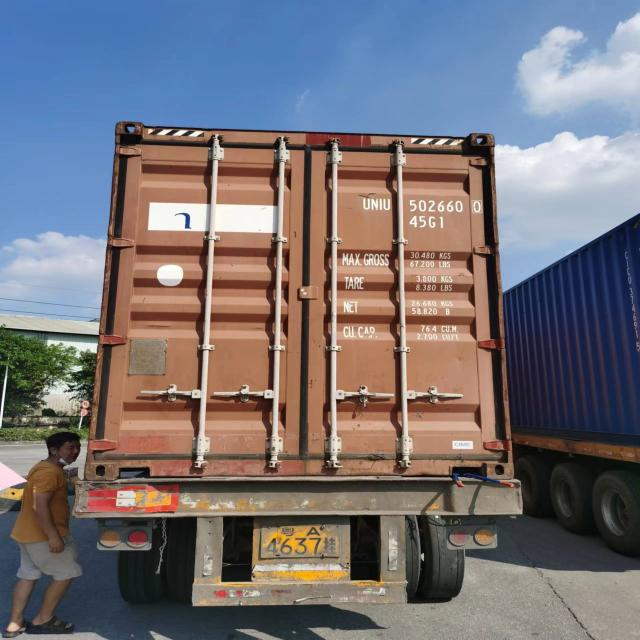seal: (355, 382, 373, 414)
